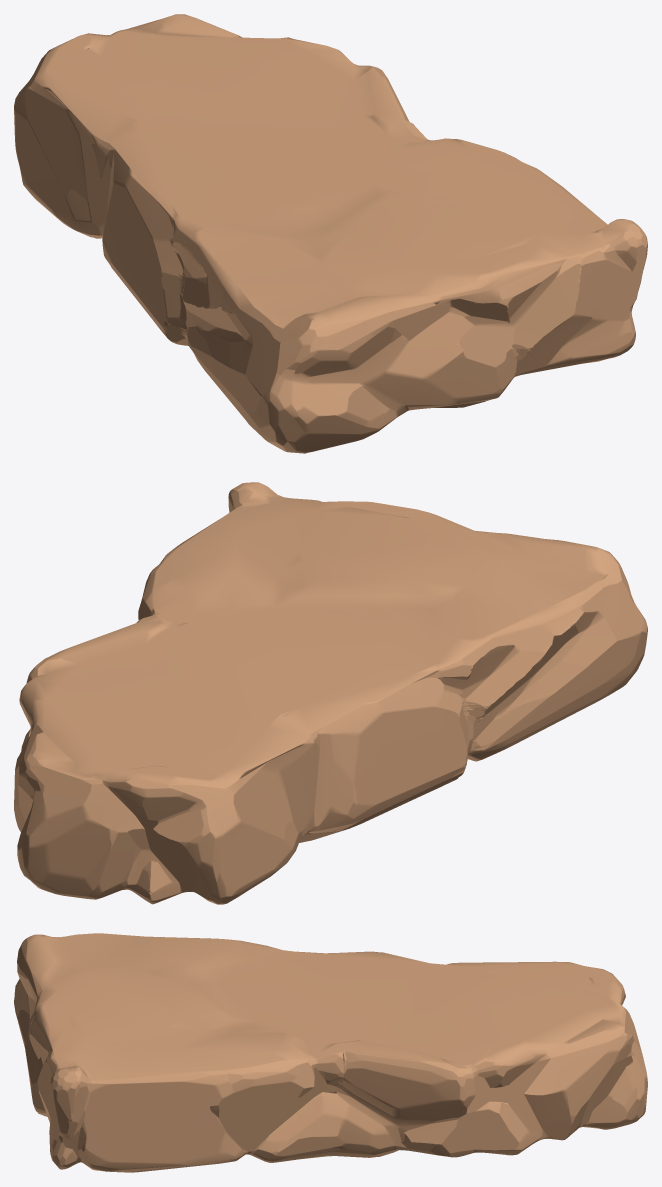
The picture shows the model from 3 angles, top to bottom: view 1: azimuth 30°, elevation 25°; view 2: azimuth 150°, elevation 25°; view 3: azimuth 270°, elevation 25°; orthographic projection. The views are drawn at different scales.
Visible parts, largest first — view 1: Mesh_119_LOD0; view 2: Mesh_119_LOD0; view 3: Mesh_119_LOD0.
Boxes of the visible parts, box(x1,y1,x2,y2) form: Mesh_119_LOD0: box(14, 14, 647, 453); Mesh_119_LOD0: box(14, 482, 647, 904); Mesh_119_LOD0: box(14, 933, 647, 1172).
Size of what is drawn, in the model's own units: 1865 by 650 by 3104.
